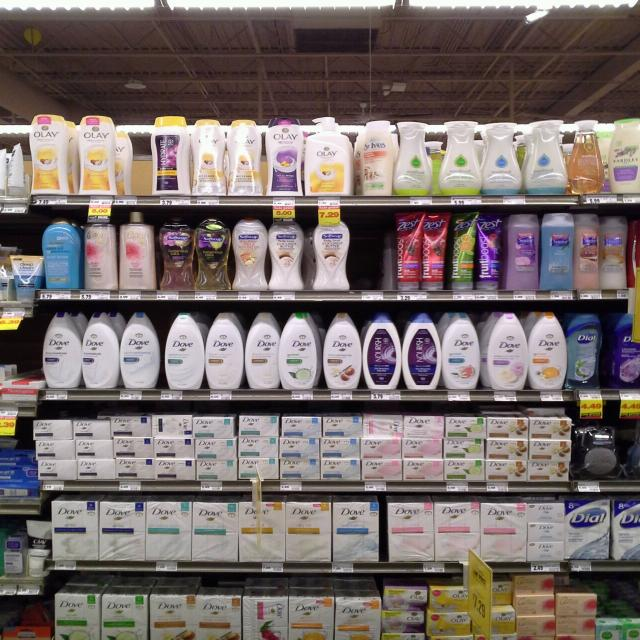void: (354, 212, 386, 290)
